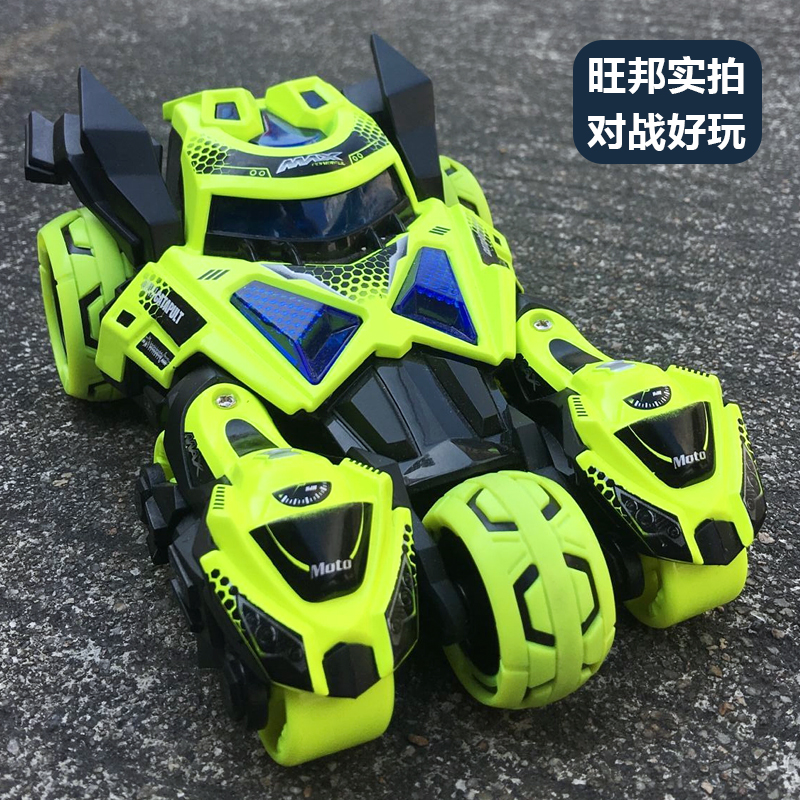Car: (22, 21, 770, 776)
